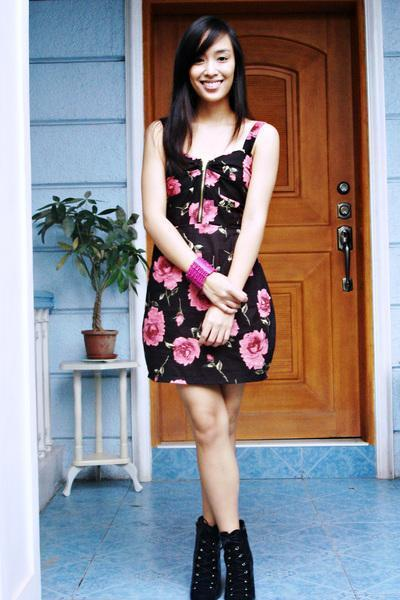dress: (142, 139, 275, 395)
shoe: (190, 516, 254, 599)
